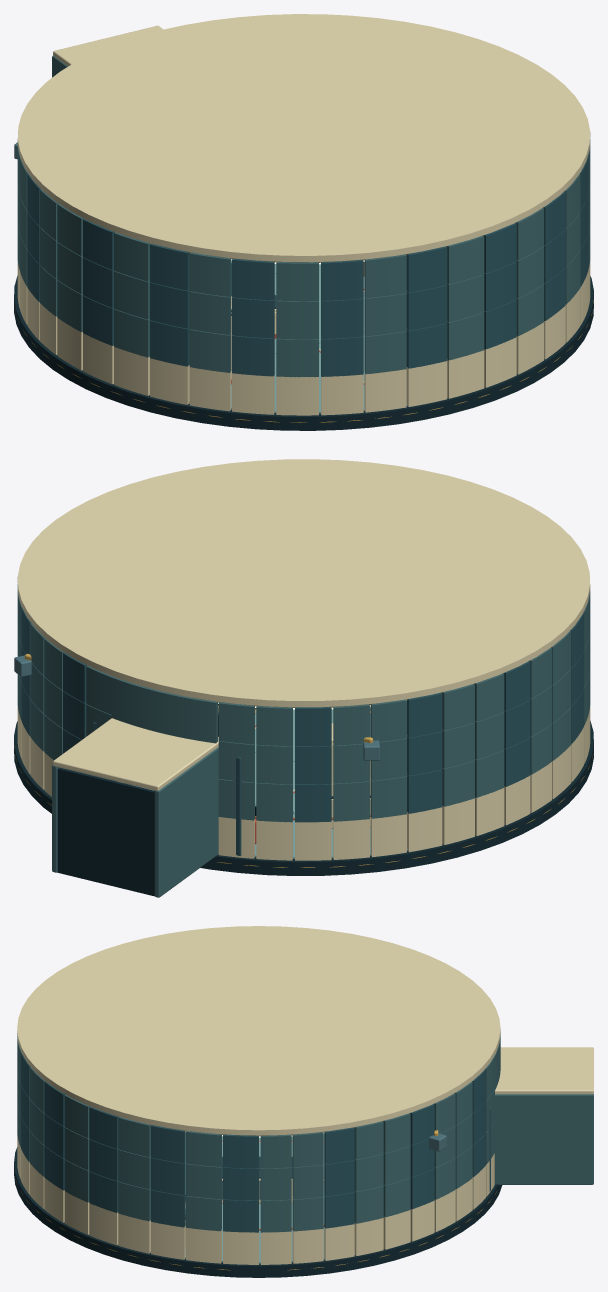
File: starling-chemical-lab.glb
3 views of the same model, one above another, from view 1: azimuth 30°, elevation 25°; view 2: azimuth 150°, elevation 25°; view 3: azimuth 270°, elevation 25° (orthographic). The views are drawn at different scales.
Parts seen in each view (by area): view 1: Ceiling / complete ivory shell, Hull / front teal panel (×45), Hull / front cream lower panel (×15), Hull / low circular foundation, Hull / curved teal panel (×3), Entrance / corridor ceiling, Deck / continuous level floor, Hull / washable cream lower panel; view 2: Ceiling / complete ivory shell, Hull / curved teal panel (×39), Hull / washable cream lower panel (×11), Entrance / corridor distant shadow, Hull / low circular foundation, Entrance / corridor left wall, Entrance / corridor ceiling, Entrance / continuous curved transom, Hull / front teal panel (×3), Hull / front cream lower panel, Deck / continuous level floor, Entrance / corridor right wall (+1 smaller); view 3: Ceiling / complete ivory shell, Hull / front teal panel (×24), Hull / curved teal panel (×25), Entrance / corridor right wall, Hull / front cream lower panel (×8), Hull / washable cream lower panel (×8), Hull / low circular foundation, Entrance / corridor ceiling, Deck / continuous level floor.
Part boxes in pixels (x1,y1,x2,y2): Ceiling / complete ivory shell: [17, 14, 590, 262]; Hull / front teal panel (×45): [57, 174, 580, 377]; Hull / front cream lower panel (×15): [57, 288, 580, 415]; Hull / low circular foundation: [14, 275, 593, 430]; Hull / curved teal panel (×3): [39, 189, 58, 316]; Entrance / corridor ceiling: [53, 25, 163, 66]; Deck / continuous level floor: [189, 260, 407, 413]; Hull / washable cream lower panel: [39, 303, 57, 354]; Ceiling / complete ivory shell: [17, 459, 590, 707]; Hull / curved teal panel (×39): [30, 623, 551, 822]; Hull / washable cream lower panel (×11): [30, 737, 551, 860]; Entrance / corridor distant shadow: [57, 767, 154, 896]; Hull / low circular foundation: [14, 721, 593, 875]; Entrance / corridor left wall: [154, 747, 218, 897]; Entrance / corridor ceiling: [53, 718, 218, 790]; Entrance / continuous curved transom: [111, 676, 217, 743]; Hull / front teal panel (×3): [551, 631, 571, 760]; Hull / front cream lower panel: [552, 745, 571, 799]; Deck / continuous level floor: [133, 709, 407, 858]; Entrance / corridor right wall: [52, 765, 115, 872]; Ceiling / complete ivory shell: [17, 926, 500, 1135]; Hull / front teal panel (×24): [29, 1067, 258, 1232]; Hull / curved teal panel (×25): [260, 1069, 485, 1232]; Entrance / corridor right wall: [494, 1094, 593, 1184]; Hull / front cream lower panel (×8): [29, 1163, 258, 1264]; Hull / washable cream lower panel (×8): [260, 1178, 472, 1264]; Hull / low circular foundation: [14, 1147, 502, 1277]; Entrance / corridor ceiling: [495, 1047, 593, 1094]; Deck / continuous level floor: [150, 1133, 354, 1263].
Bounding box in the file's own units: 15.2 × 5.01 × 18.
